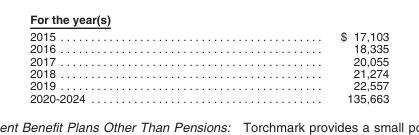table: (29, 29, 388, 104)
table column: (29, 29, 212, 104), (212, 29, 388, 104)
table row: (29, 29, 388, 42), (29, 66, 388, 79), (29, 91, 388, 104), (29, 42, 388, 54), (29, 54, 388, 66), (29, 79, 388, 91)
